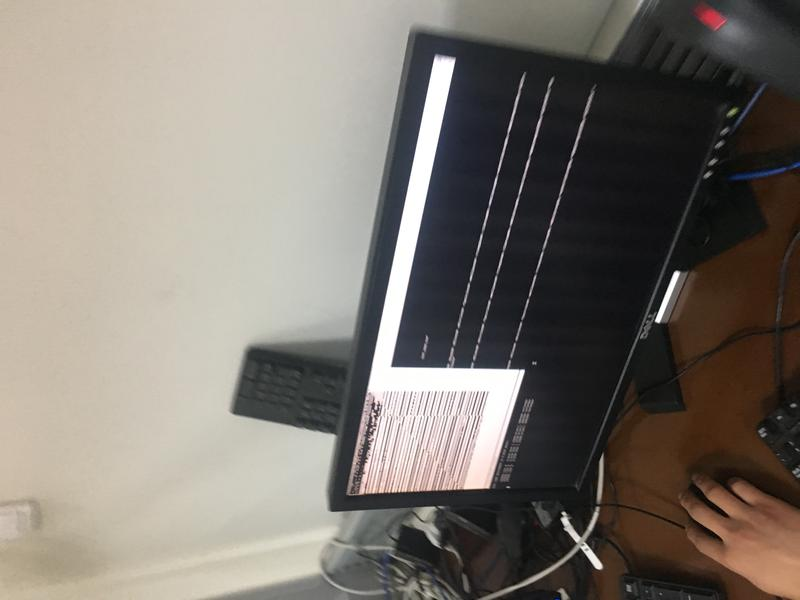xrandr_pass: (332, 353, 527, 498)
